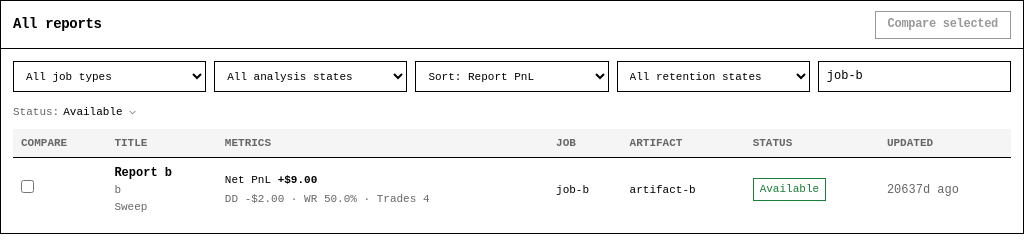
Test case: ResearchReportsPage › searches by report, job, and artifact text
Expected: the link "Report b" is shown, [114, 166, 172, 180]
Expected: the text "Report a" is not shown
Replace the text in the field named "search reports" with "artifact-a" at (914, 77), box [818, 61, 1011, 92]
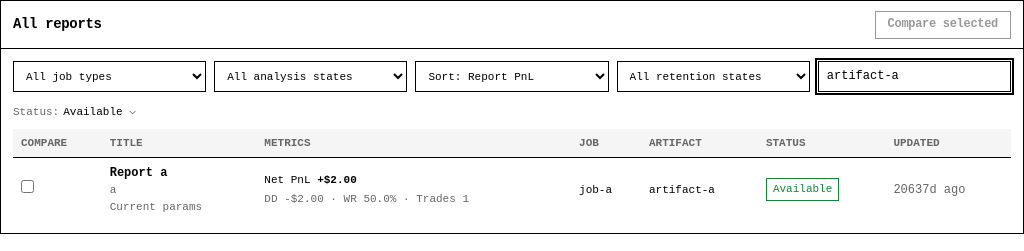
Result: the link "Report a" is shown at [110, 166, 167, 180]
Result: the link "Report b" is gone
